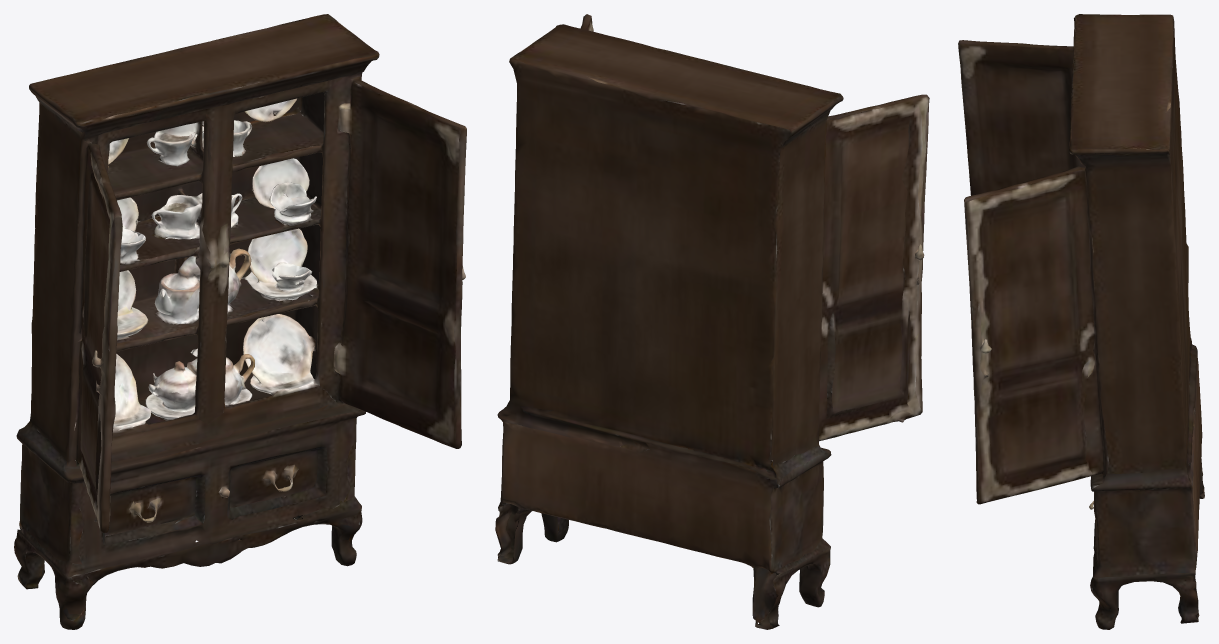
File: agatha_china.glb
3 renders of one model, left to right at view 1: azimuth 30°, elevation 25°; view 2: azimuth 150°, elevation 25°; view 3: azimuth 270°, elevation 25°, orthographic. The views are drawn at different scales.
Bounding box in the file's own units: 0.7122 × 0.9561 × 0.4402.
Materials: 1 (1 with a texture image).
